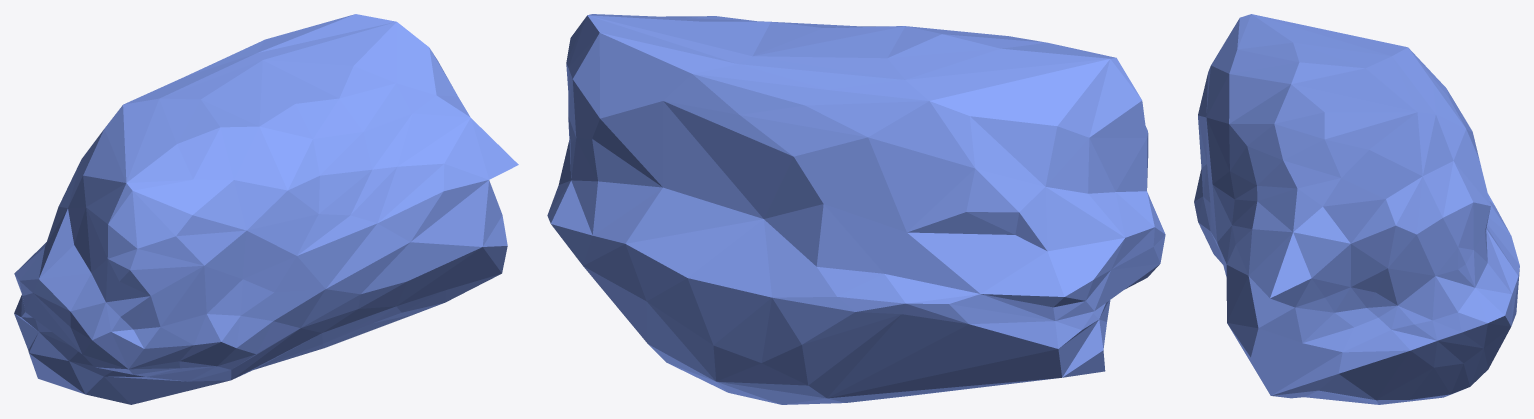
Rendered from Rock_4.fbx.
3 renders of one model, left to right at view 1: azimuth 30°, elevation 25°; view 2: azimuth 150°, elevation 25°; view 3: azimuth 270°, elevation 25°, orthographic. The views are drawn at different scales.
Parts seen in each view (by area): view 1: PM3D_Cube3D2; view 2: PM3D_Cube3D2; view 3: PM3D_Cube3D2.
Boxes of the visible parts, left/top/right/bottom form: PM3D_Cube3D2: left=14, top=14, right=518, bottom=404; PM3D_Cube3D2: left=547, top=14, right=1165, bottom=404; PM3D_Cube3D2: left=1194, top=14, right=1519, bottom=404.
Bounding box in the file's own units: 4.94 × 2.97 × 3.06.
